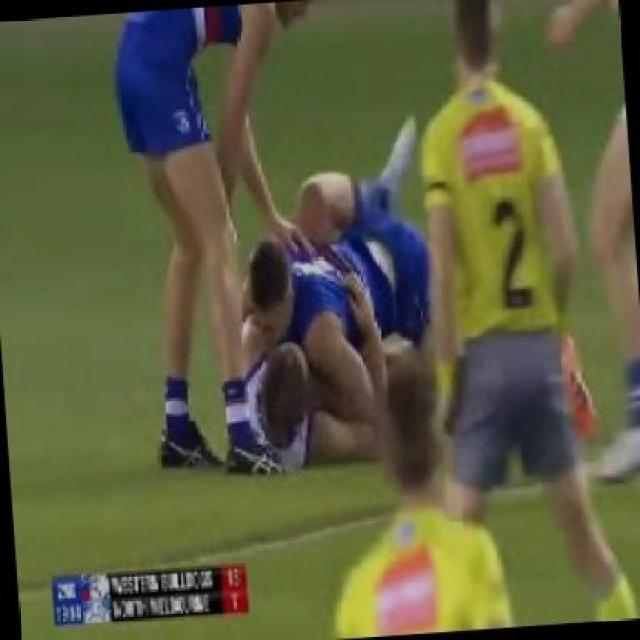fight: (209, 92, 469, 476)
non-fight: (424, 0, 640, 640), (80, 2, 328, 484)
